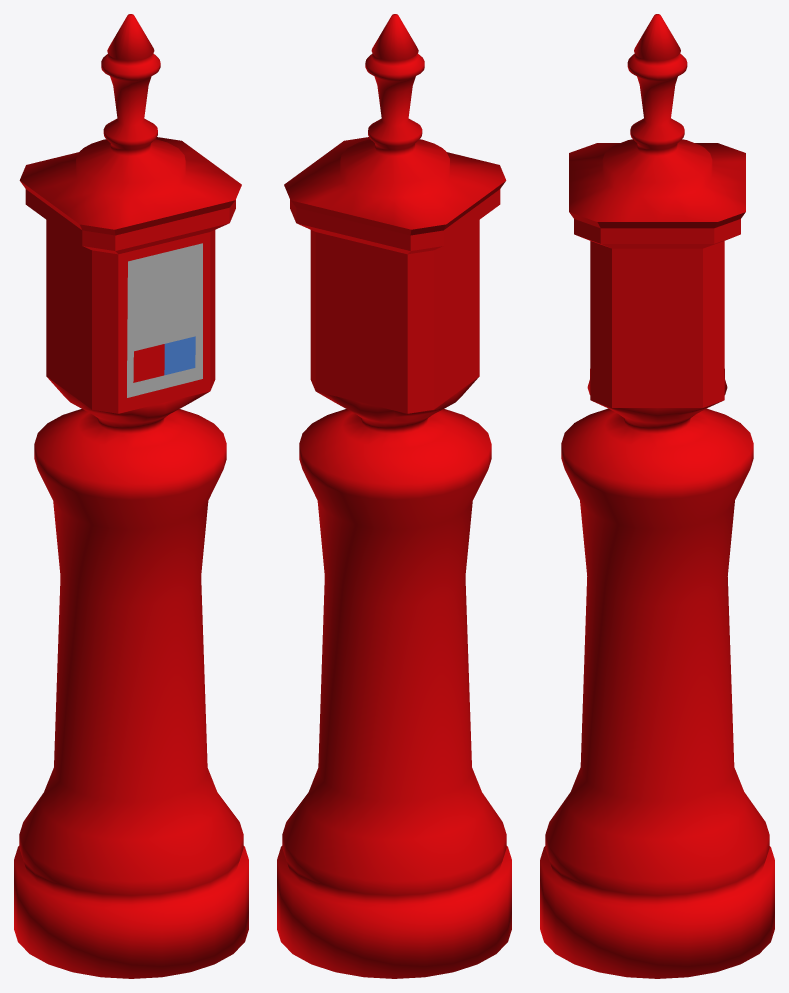
Rendered from callbox.glb.
The picture shows the model from 3 angles, left to right: view 1: azimuth 30°, elevation 25°; view 2: azimuth 150°, elevation 25°; view 3: azimuth 270°, elevation 25°; orthographic projection.
Parts seen in each view (by area): view 1: call-box-old; view 2: call-box-old; view 3: call-box-old.
Part boxes in pixels (x1,y1,x2,y2): call-box-old: (14, 14, 248, 978); call-box-old: (277, 14, 511, 978); call-box-old: (540, 14, 774, 978).
Bounding box in the file's own units: 0.4675 × 2.01 × 0.4675.
